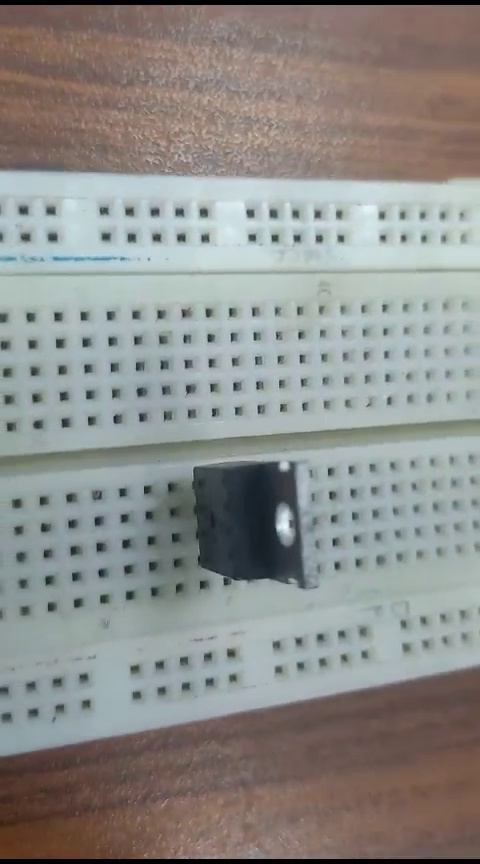voltage regulator: (178, 449, 332, 607)
